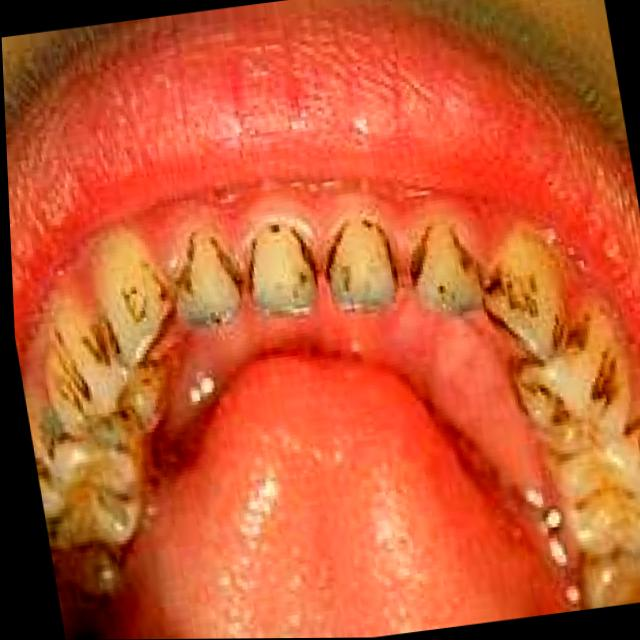tooth-discoloration: (416, 251, 481, 320), (178, 288, 239, 335), (329, 271, 394, 314), (252, 277, 314, 318)
